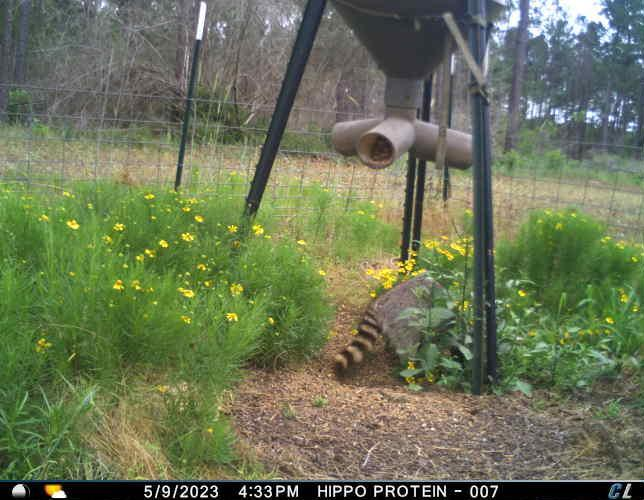Raccoon: (329, 270, 456, 378)
